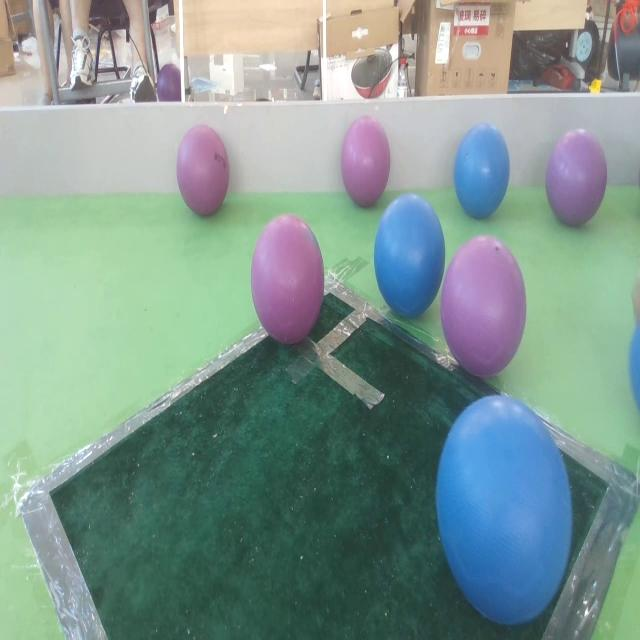blue: (438, 393, 572, 624), (375, 191, 444, 315), (454, 122, 511, 224), (627, 307, 640, 418)
invalid: (439, 225, 522, 381), (252, 215, 332, 342), (544, 123, 611, 232), (339, 110, 391, 218), (173, 124, 230, 214)
